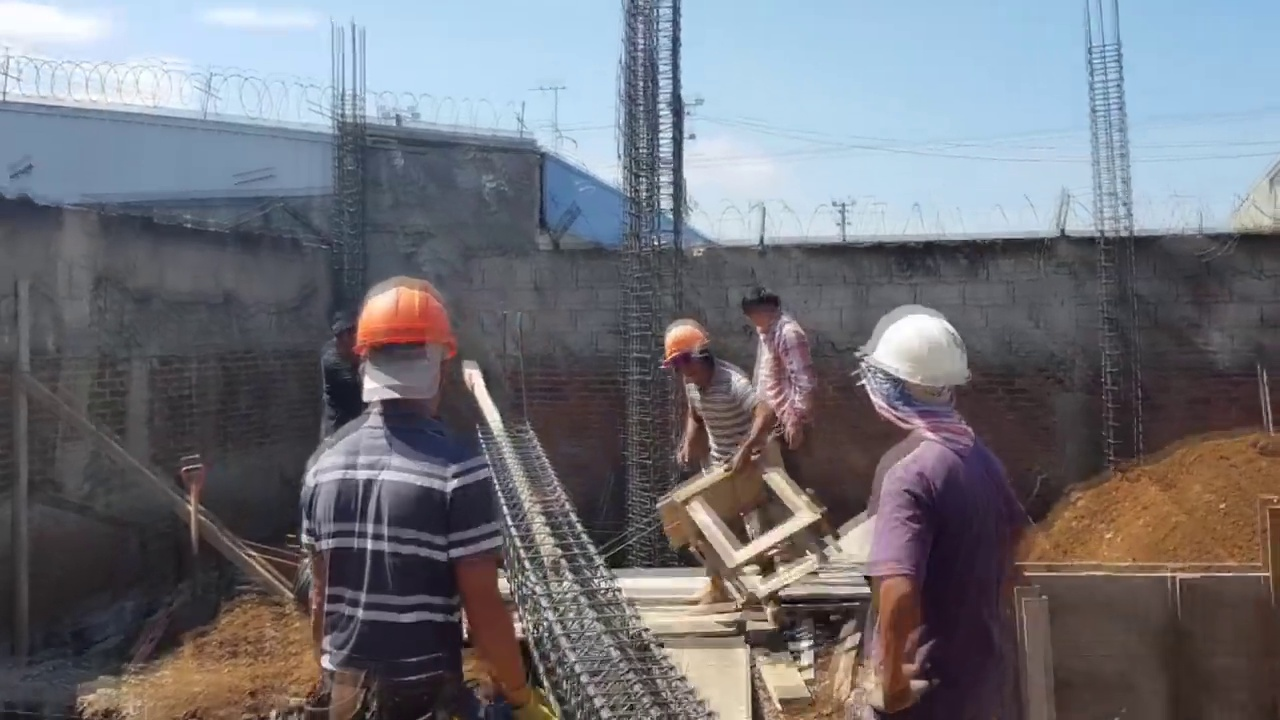helmet: (345, 272, 459, 365), (866, 308, 978, 391), (662, 325, 706, 368)
helmet-off: (746, 290, 789, 337), (329, 311, 358, 350)
helmet-on: (343, 271, 457, 434), (864, 304, 980, 437), (662, 320, 715, 390)
person: (304, 274, 527, 718), (855, 295, 1044, 720), (663, 315, 769, 511), (746, 289, 838, 496), (317, 309, 368, 444)
